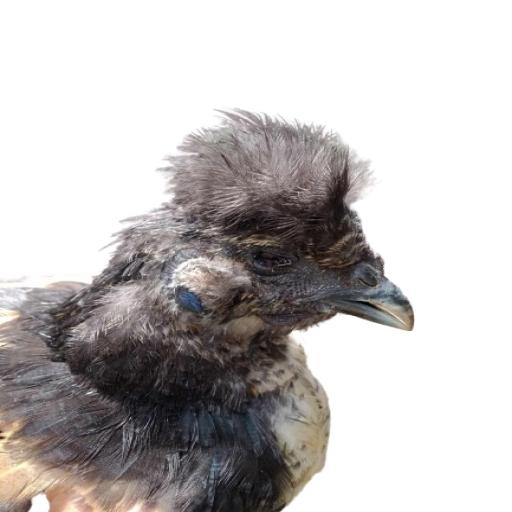disease: (160, 198, 362, 343)
